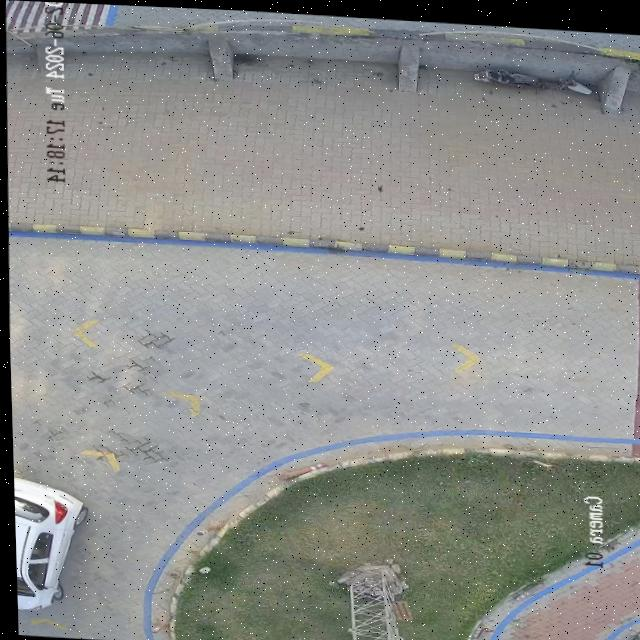car: (11, 475, 83, 611)
